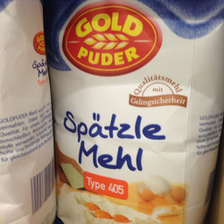flour: (46, 1, 224, 222)
